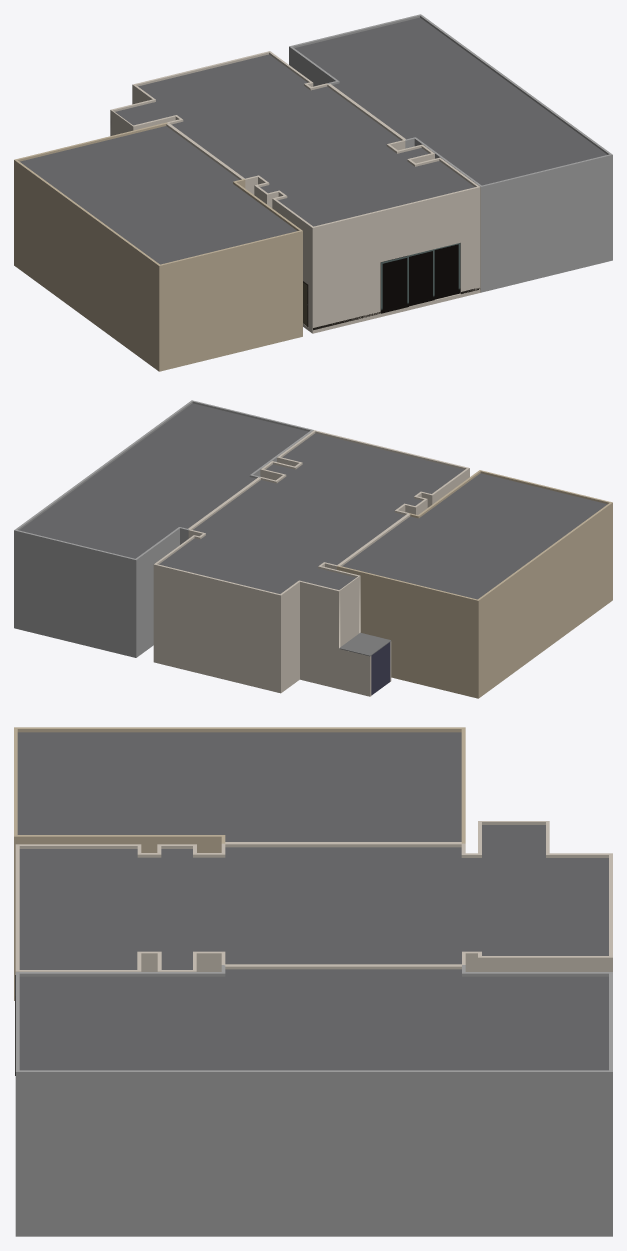
The model's file is room.glb.
3 renders of one model, top to bottom at view 1: azimuth 30°, elevation 25°; view 2: azimuth 150°, elevation 25°; view 3: azimuth 270°, elevation 25°, orthographic. The views are drawn at different scales.
Visible parts, largest first — view 1: agri_wall, lobby_ceiling, garage_ceiling, agri_ceiling, garage_wall, lobby_wall_1, innovationLab_door, lobby_wall_2; view 2: agri_wall, lobby_ceiling, lobby_wall_2, garage_ceiling, agri_ceiling, garage_wall, lobby_wall_1, lobby_floor, elevator_roof; view 3: garage_wall, lobby_ceiling, garage_ceiling, agri_ceiling, agri_wall, lobby_wall_2, lobby_wall_1, lobby_wall_3, lobby_wall_4.
Boxes of the visible parts, bbox=[...] form: agri_wall: bbox=[14, 122, 302, 371]; lobby_ceiling: bbox=[115, 54, 474, 226]; garage_ceiling: bbox=[294, 17, 607, 185]; agri_ceiling: bbox=[20, 126, 296, 264]; garage_wall: bbox=[289, 14, 612, 292]; lobby_wall_1: bbox=[245, 140, 480, 333]; innovationLab_door: bbox=[380, 243, 460, 313]; lobby_wall_2: bbox=[110, 51, 327, 135]; agri_wall: bbox=[337, 470, 612, 698]; lobby_ceiling: bbox=[159, 433, 464, 593]; lobby_wall_2: bbox=[153, 529, 391, 696]; garage_ceiling: bbox=[19, 403, 308, 558]; agri_ceiling: bbox=[342, 473, 607, 599]; garage_wall: bbox=[14, 400, 313, 657]; lobby_wall_1: bbox=[260, 430, 469, 514]; lobby_floor: bbox=[371, 642, 390, 695]; elevator_roof: bbox=[339, 632, 391, 656]; garage_wall: bbox=[15, 965, 612, 1236]; lobby_ceiling: bbox=[19, 825, 608, 969]; garage_ceiling: bbox=[19, 969, 608, 1070]; agri_ceiling: bbox=[17, 732, 461, 841]; agri_wall: bbox=[14, 727, 465, 1000]; lobby_wall_2: bbox=[461, 821, 612, 971]; lobby_wall_1: bbox=[15, 843, 225, 971]; lobby_wall_3: bbox=[225, 842, 461, 847]; lobby_wall_4: bbox=[225, 964, 461, 969].
Bounding box in the file's own units: 27.84 × 6.19 × 20.45.
14 materials, 1 textured.
